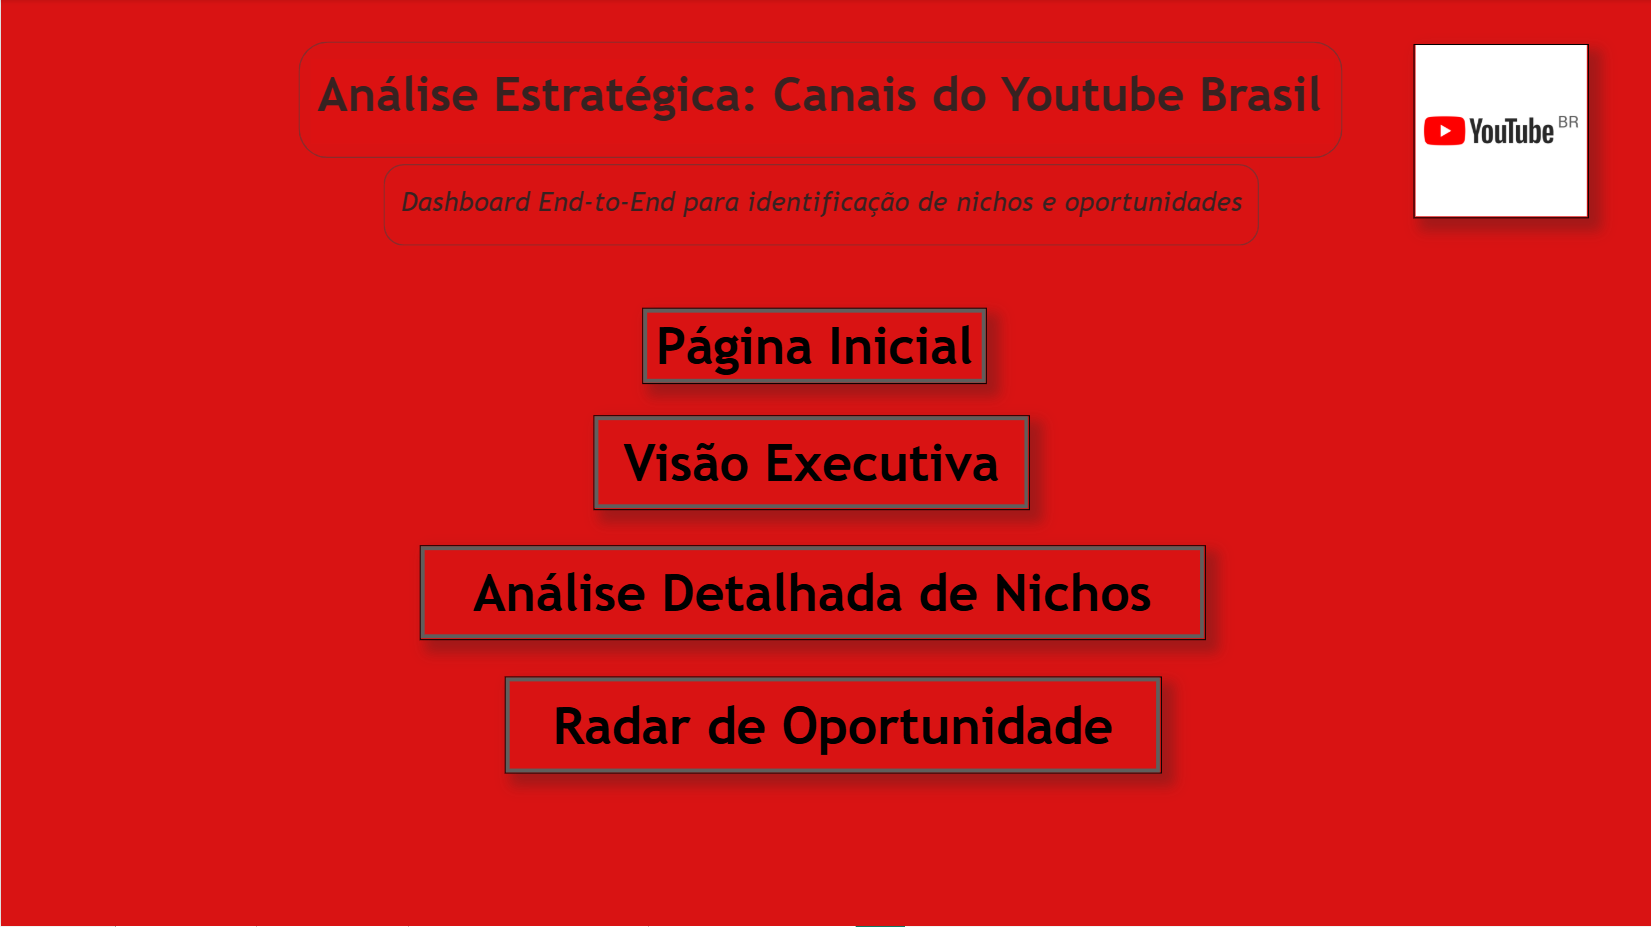

This screenshot's page, from the dashboard's own definition file:
{"tool":"powerbi","page":{"name":"Página Inicial","canvas":[1280,720],"ordinal":0},"visuals":[{"type":"textbox","box":[240,46.7,793.5,65.6],"z":0},{"type":"shape","box":[230.7,33.3,809.6,90.4],"z":1000},{"type":"textbox","box":[305.6,140,679,40],"z":2000},{"type":"shape","box":[296.7,127.8,679,63.3],"z":3000},{"type":"image","box":[1095.4,34.9,136,134.9],"z":4000},{"type":"actionButton","box":[497.7,239.5,267.4,59.3],"z":5000},{"type":"actionButton","box":[459.3,323.3,338.4,73.3],"z":6000},{"type":"actionButton","box":[324.4,423.3,609.3,73.3],"z":7000},{"type":"actionButton","box":[390.7,525.6,509.3,75.6],"z":8000}]}

Visuals, with their boxes in screenshot pixels (x1, y1, x2, y2), scaled from the page's 1280x720 canvas onto the 1651x927 screenshot:
textbox: <bbox>310, 60, 1333, 145</bbox>
shape: <bbox>298, 43, 1342, 159</bbox>
textbox: <bbox>394, 180, 1270, 232</bbox>
shape: <bbox>383, 165, 1259, 246</bbox>
image: <bbox>1413, 45, 1588, 219</bbox>
actionButton: <bbox>642, 308, 987, 385</bbox>
actionButton: <bbox>592, 416, 1029, 511</bbox>
actionButton: <bbox>418, 545, 1204, 639</bbox>
actionButton: <bbox>504, 677, 1161, 774</bbox>
